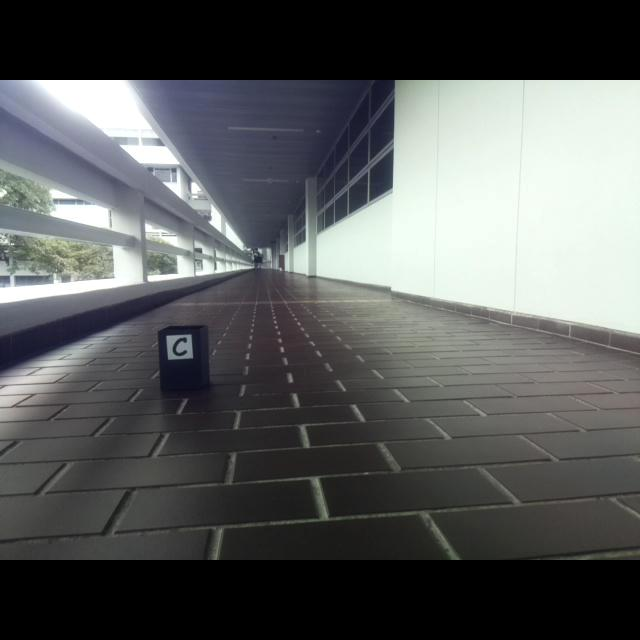C: (171, 337, 188, 358)
